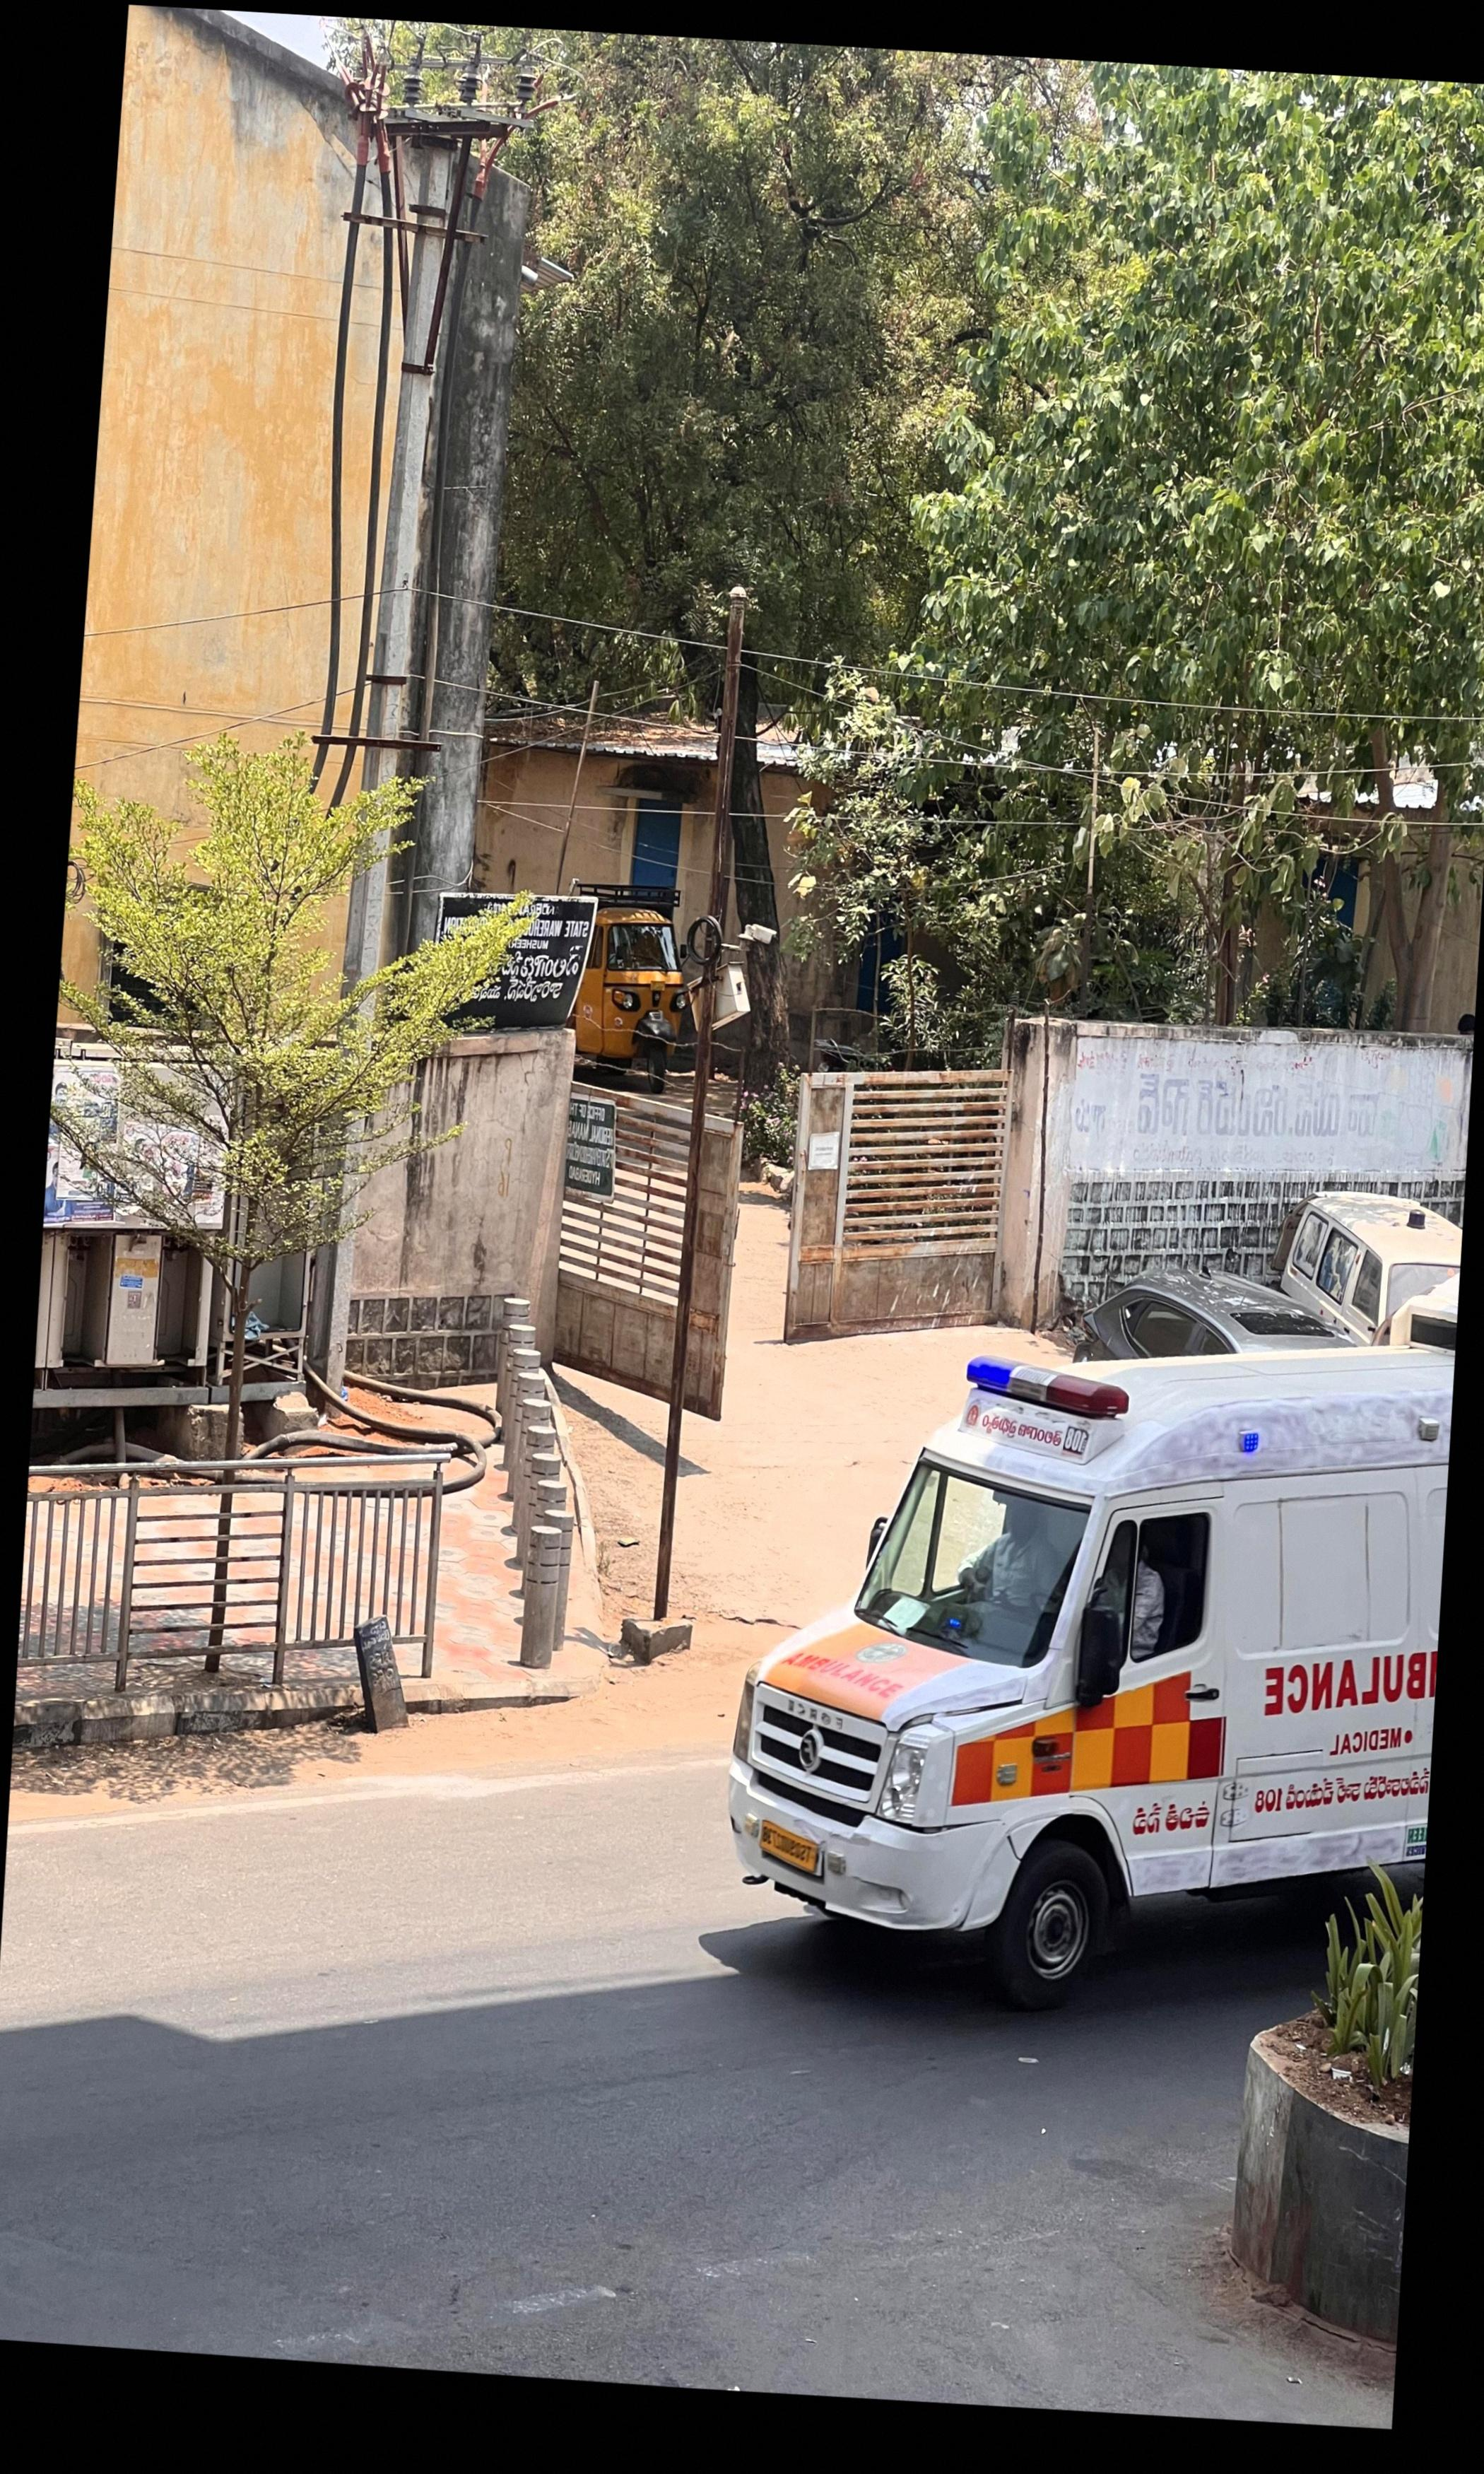ambulance: (723, 1347, 1454, 2018)
